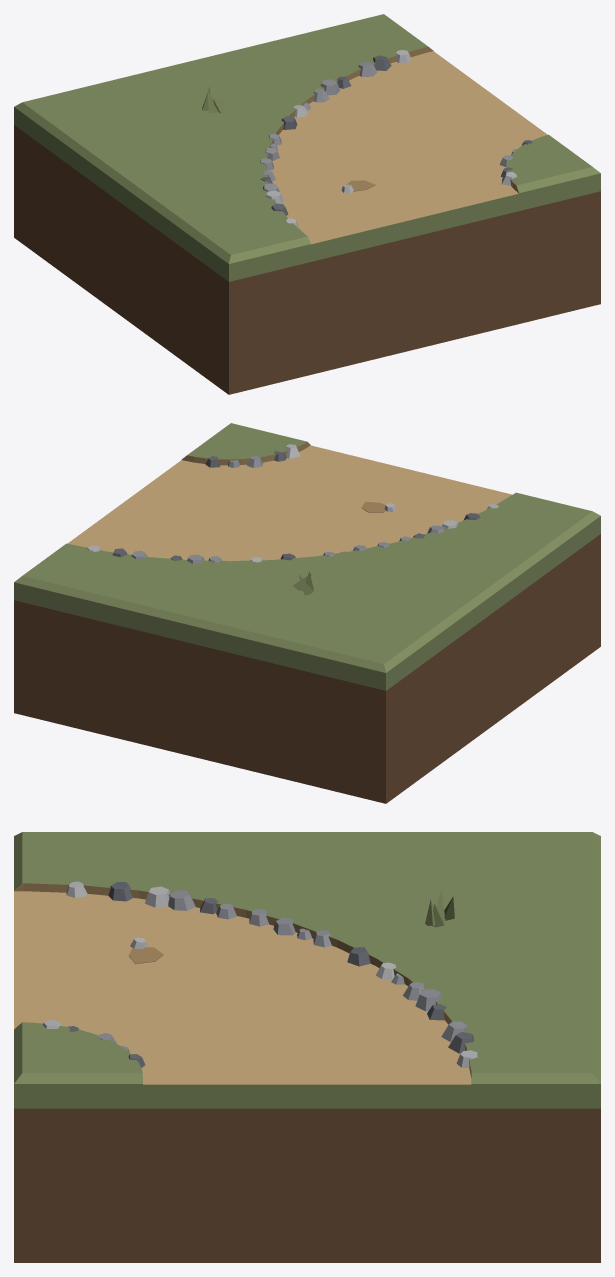
Rendered from Road Corner.fbx.
The picture shows the model from 3 angles, top to bottom: view 1: azimuth 30°, elevation 25°; view 2: azimuth 150°, elevation 25°; view 3: azimuth 270°, elevation 25°; orthographic projection. The views are drawn at different scales.
Visible parts, largest first — view 1: Road Corner; view 2: Road Corner; view 3: Road Corner.
Part boxes in pixels (bbox=[...]): Road Corner: bbox=[14, 14, 600, 394]; Road Corner: bbox=[14, 423, 600, 803]; Road Corner: bbox=[14, 832, 600, 1262].
Bounding box in the file's own units: 1 × 0.4045 × 1.
